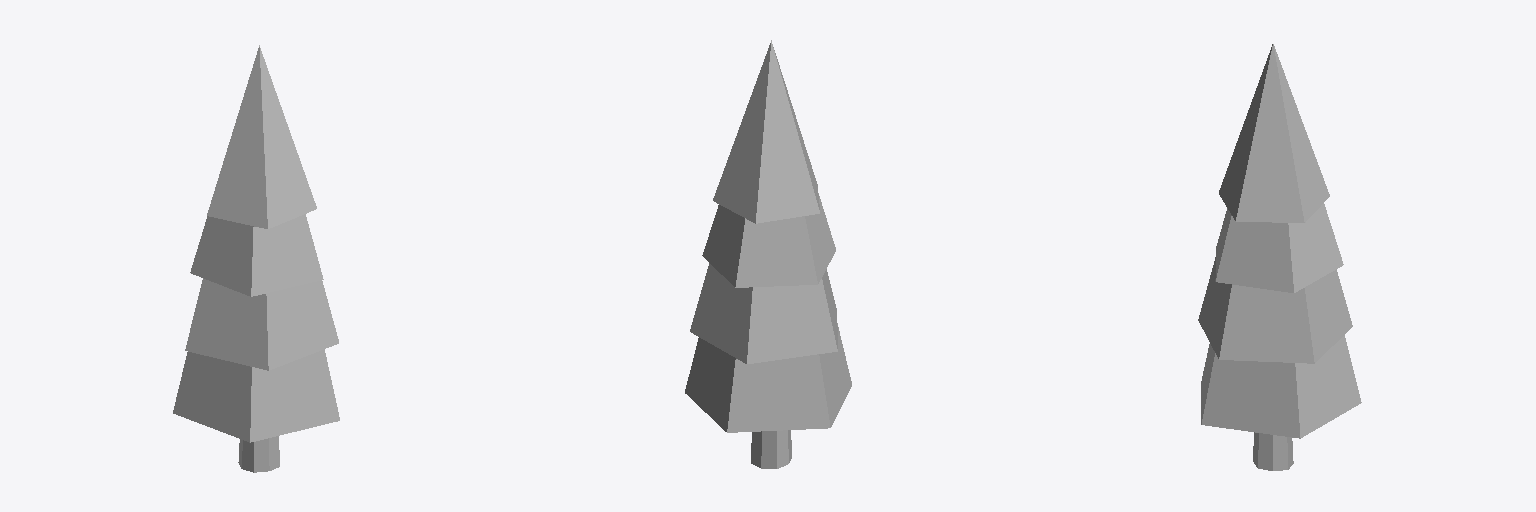
Rendered from tree-pine1.obj.
3 views of the same model, side by side, from view 1: azimuth 30°, elevation 25°; view 2: azimuth 150°, elevation 25°; view 3: azimuth 270°, elevation 25° (orthographic).
Visible parts, largest first — view 1: stalk_Cube.001; view 2: stalk_Cube.001; view 3: stalk_Cube.001.
Part boxes in pixels (left/top/right/bottom): stalk_Cube.001: left=173, top=45, right=339, bottom=472; stalk_Cube.001: left=685, top=40, right=851, bottom=468; stalk_Cube.001: left=1198, top=44, right=1361, bottom=470.
Bounding box in the file's own units: 1.46 × 4.09 × 1.42.